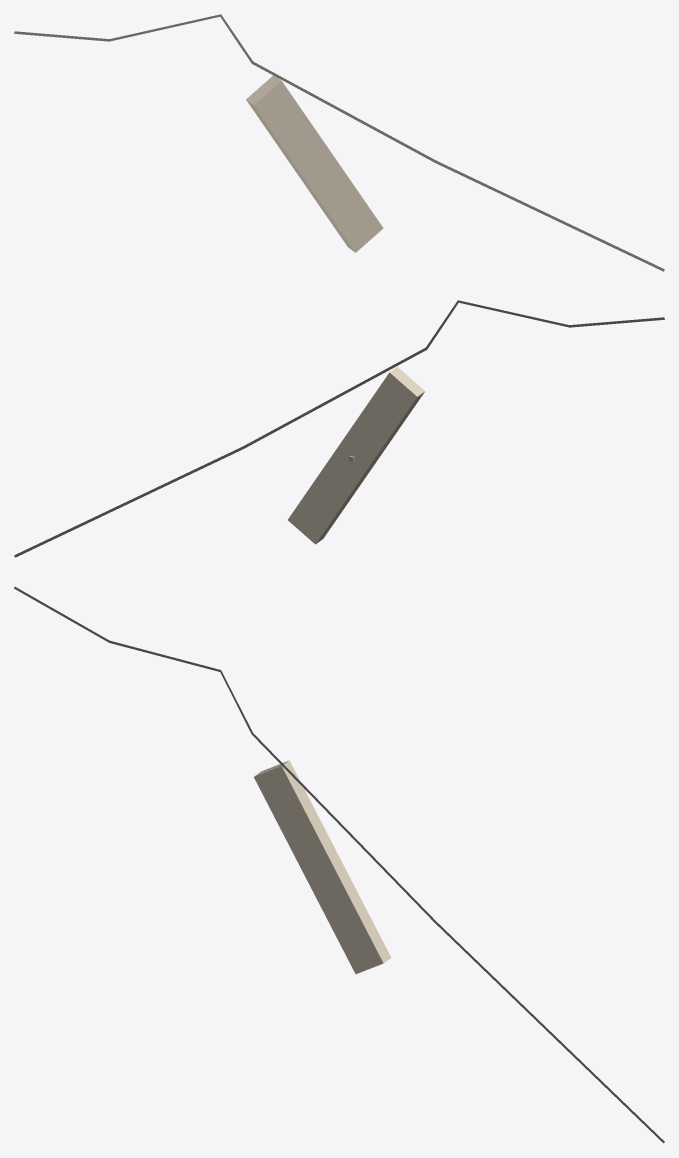
Rendered from historic-palestine-09_28_3510_3223.glb.
3 views of the same model, one above another, from view 1: azimuth 30°, elevation 25°; view 2: azimuth 150°, elevation 25°; view 3: azimuth 330°, elevation 25° (orthographic).
Parts seen in each view (by area): view 1: Building_, Road; view 2: Building_, Road; view 3: Building_, Road.
Boxes of the visible parts, left/top/right/bottom form: Building_: left=246, top=75, right=383, bottom=252; Road: left=14, top=14, right=664, bottom=271; Building_: left=288, top=366, right=424, bottom=544; Road: left=14, top=300, right=664, bottom=557; Building_: left=254, top=760, right=391, bottom=973; Road: left=14, top=586, right=664, bottom=1143.
Bounding box in the file's own units: 360 × 211 × 8.7.
